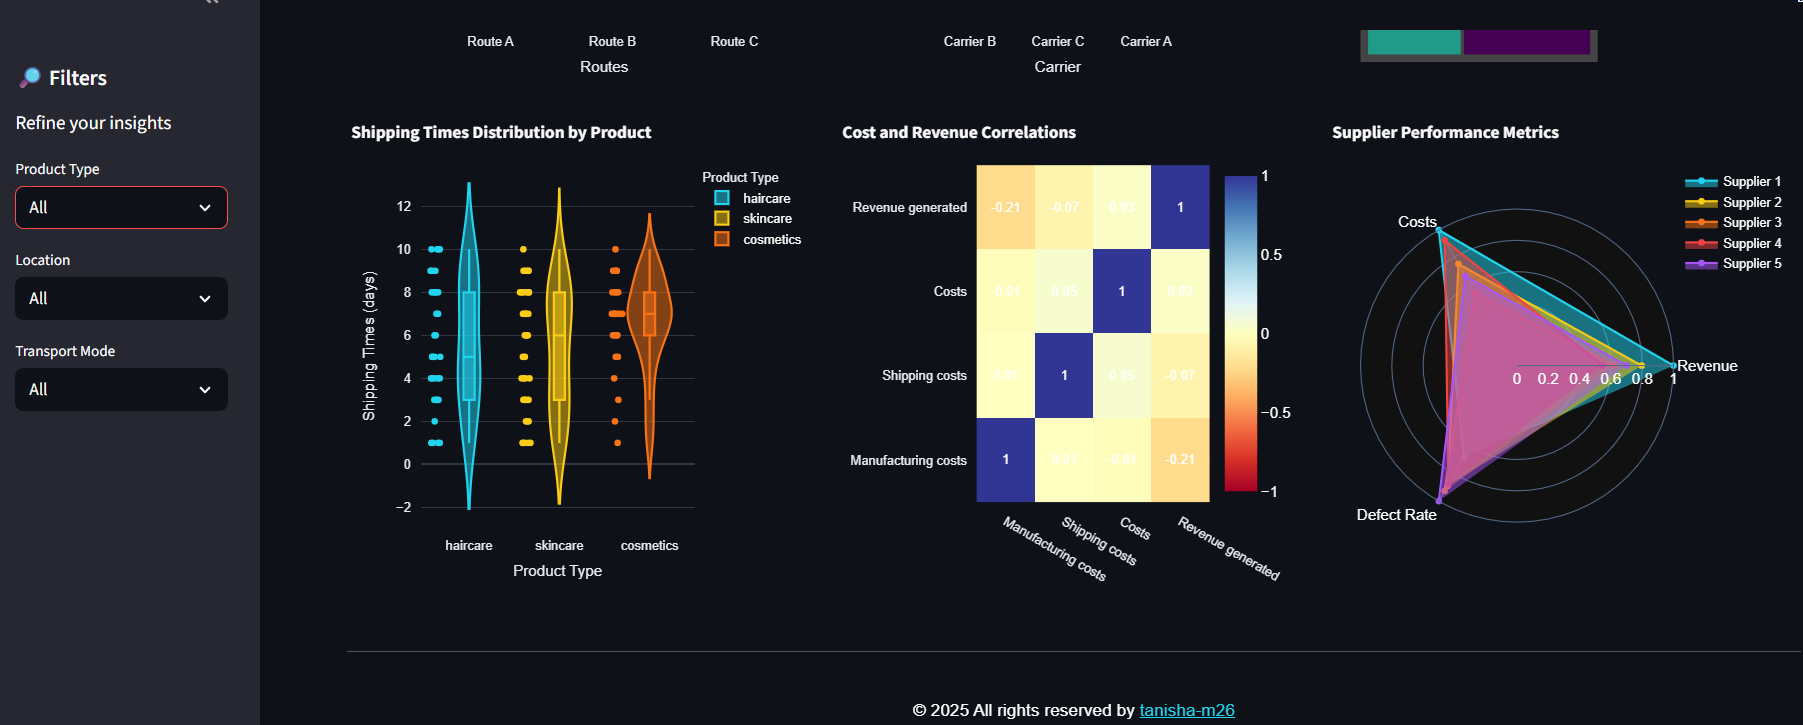

What the dashboard file says about the page in this screenshot:
{"tool":"tableau","page":{"name":"Dashboard 3","canvas":[1000,1000],"units":"permille","ordinal":2},"visuals":[{"type":"worksheet","title":"Sheet 5","mark":"Automatic","rows":["shipping_times"],"cols":["product_type","location"],"box":[5.2,10.7,388.4,978.6]},{"type":"legend","title":"Sheet 5","param":"[federated.15tfg9s0zh5uvz1e8yaf50bd6k9i].[none:location:nk]","box":[393.6,10.7,601.3,180.7]},{"type":"worksheet","title":"Sheet 6","mark":"Automatic","rows":["shipping_costs","revenue_generated"],"cols":["routes","shipping_carriers"],"box":[393.6,191.4,601.3,797.9]}]}

Visuals, with their boxes on the dashboard's canvas, which has no fixed pixel size, in thousandths of its width and height (x1, y1, x2, y2). These are canvas units, not pixel positions in the 1803x725 screenshot, which may show the page scaled, cropped or inside an application window:
"Sheet 5" worksheet: (x1=5, y1=11, x2=394, y2=989)
"Sheet 5" legend: (x1=394, y1=11, x2=995, y2=191)
"Sheet 6" worksheet: (x1=394, y1=191, x2=995, y2=989)
